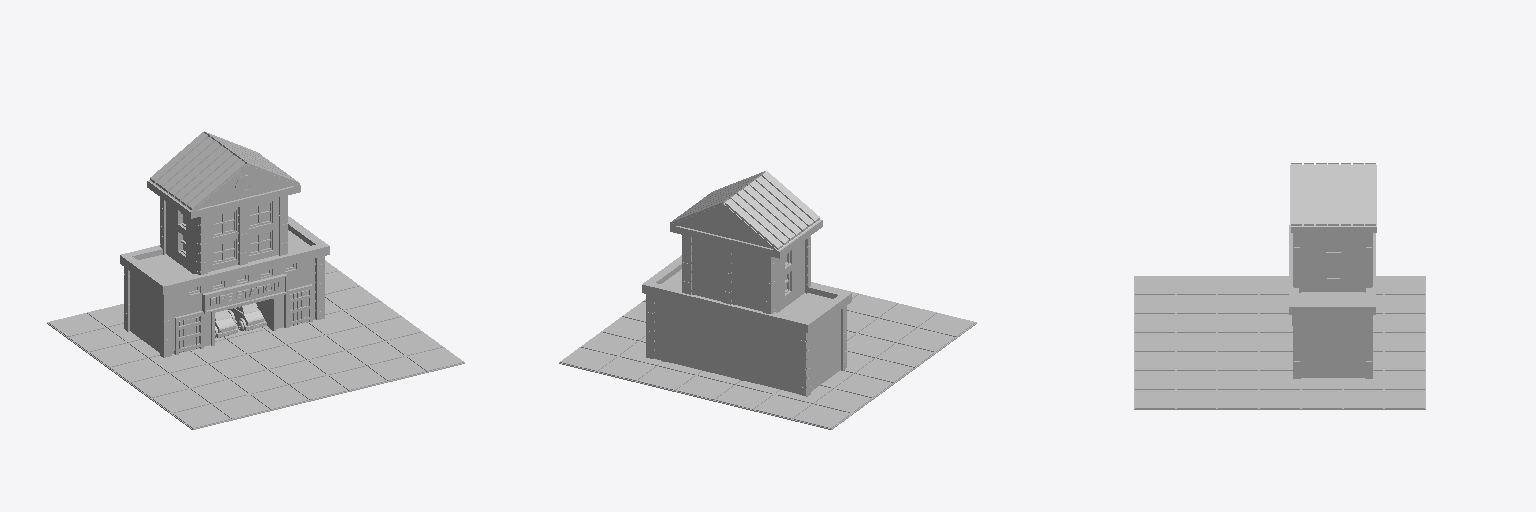
File: fire station.obj
3 views of the same model, side by side, from view 1: azimuth 30°, elevation 25°; view 2: azimuth 150°, elevation 25°; view 3: azimuth 270°, elevation 25° (orthographic).
Visible parts, largest first — view 1: Box58, Box03, Line12, Box26, Box27, Box04, Line05, Box74, Box28, Box75, Box69, Box70; view 2: Box58, Box03, Line12, Box26, Line05, Box04, Box77, Box72, Box76, Box71; view 3: Box58, Box03, Line12, Box26.
Part boxes in pixels (x1,y1,x2,y2): Box58: (47,260,464,429); Box03: (130,198,315,353); Line12: (149,131,299,211); Box26: (120,216,329,294); Box27: (202,274,287,313); Box04: (147,181,300,218); Line05: (200,169,290,208); Box74: (160,293,171,357); Box28: (196,215,207,274); Box75: (315,256,324,319); Box69: (238,205,247,265); Box70: (279,196,287,255); Box58: (559,282,976,429); Box03: (655,237,840,393); Line12: (670,171,820,250); Box26: (642,255,851,333); Line05: (677,208,769,247); Box04: (670,220,822,258); Box77: (799,332,810,396); Box72: (763,255,774,313); Box76: (646,294,654,358); Box71: (682,235,691,294); Box58: (1134,276,1425,409); Box03: (1299,233,1365,377); Line12: (1290,163,1376,226); Box26: (1289,225,1375,314).
Size of the model in its own units: 323 by 204 by 299.